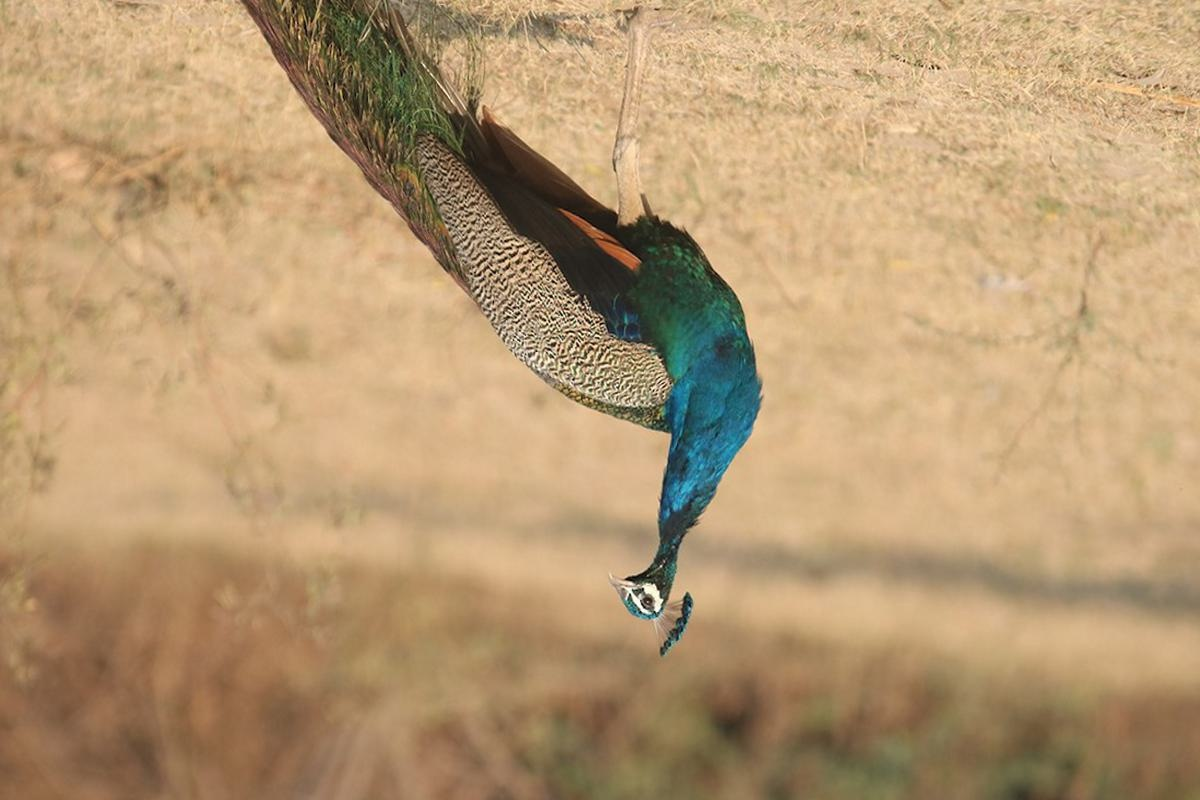peacock: (151, 1, 838, 671)
